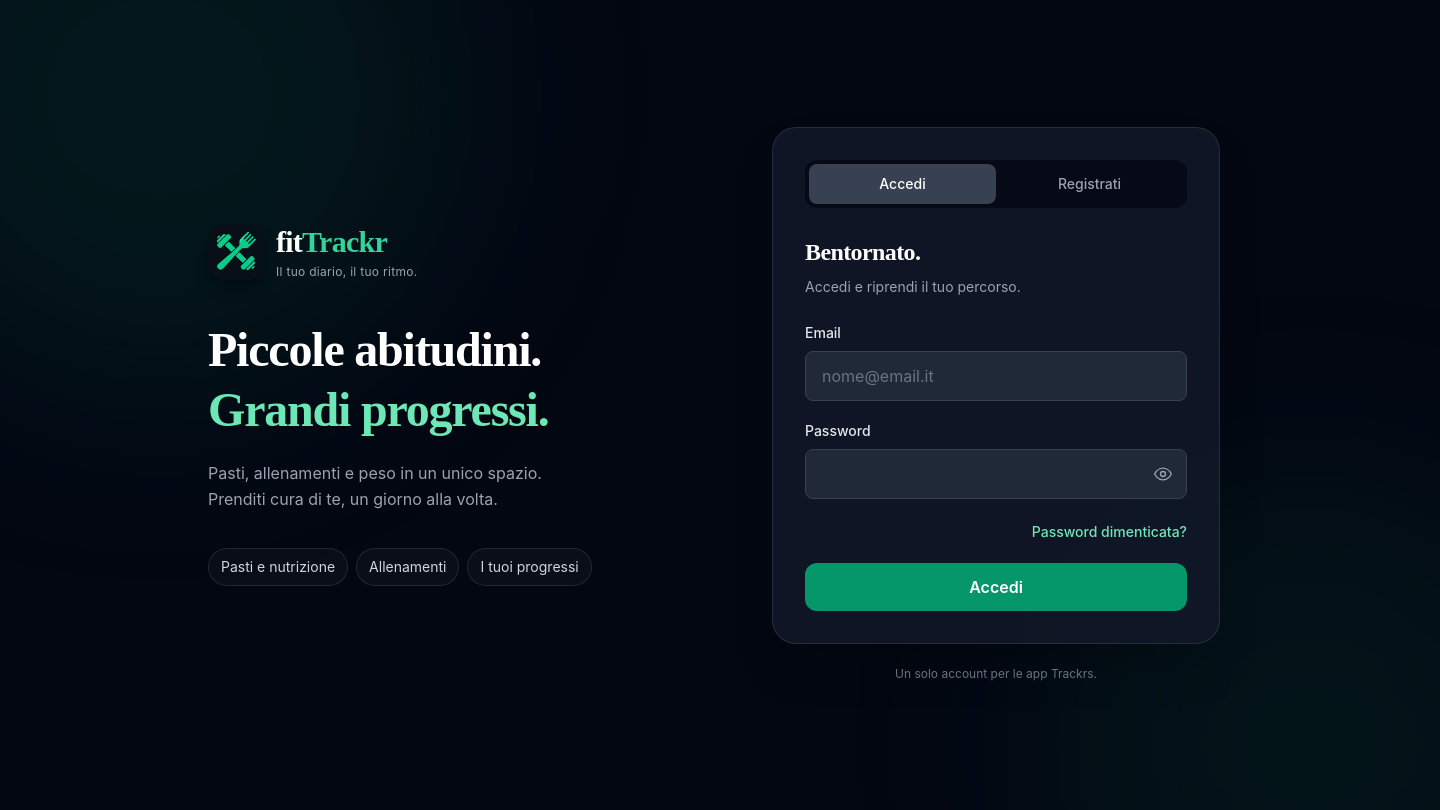
LoginPage › requires matching passwords before sending a signup request
The width and height of the screenshot is (1440, 810).
Click the button "Registrati". click: (1090, 184)
box: [996,164,1183,204]
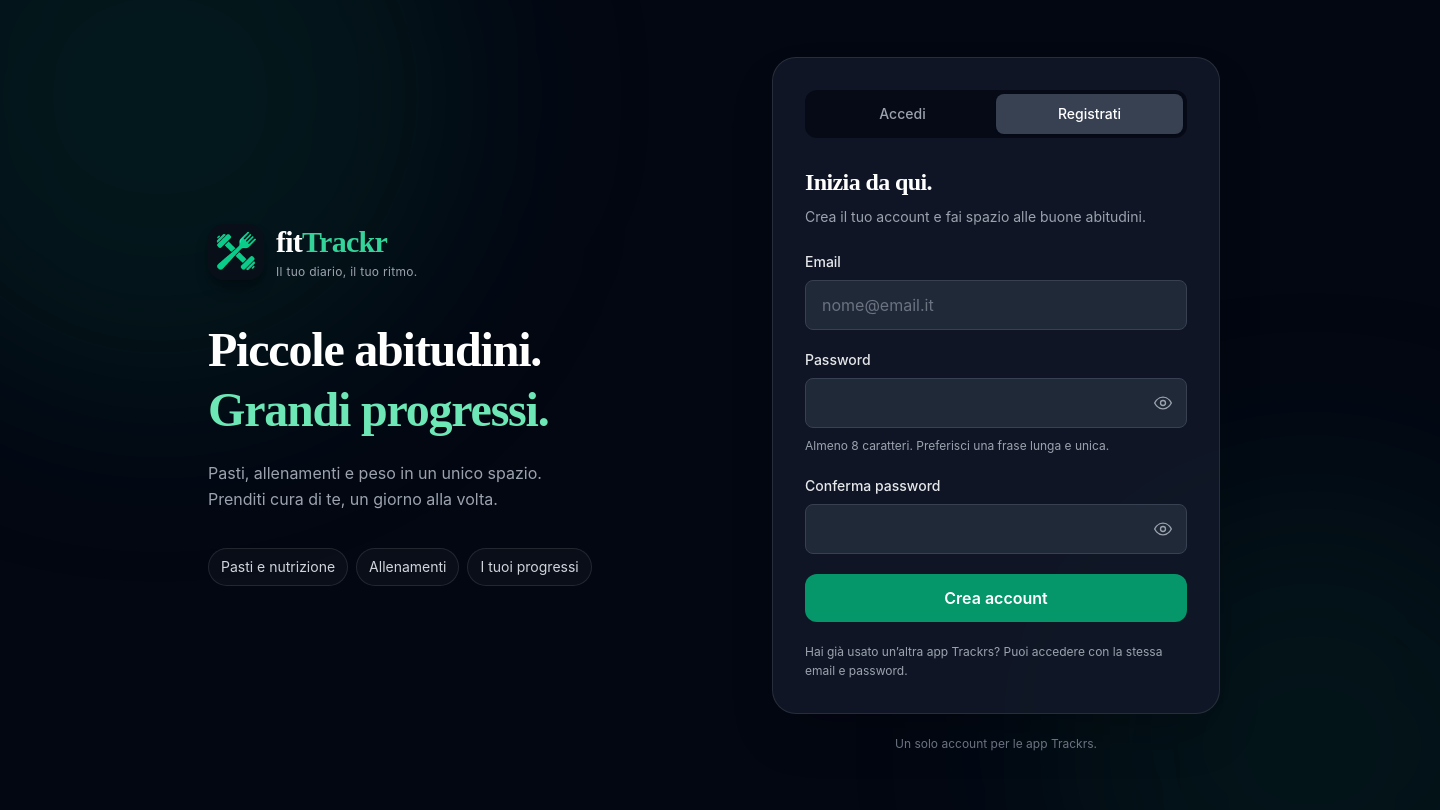
Type " account@example.it " into the field labelled "Email". click: (996, 305)
box: [805,280,1187,330]
Type "long-passphrase" into the password field labelled "Password". click: (996, 403)
box: [805,378,1187,428]
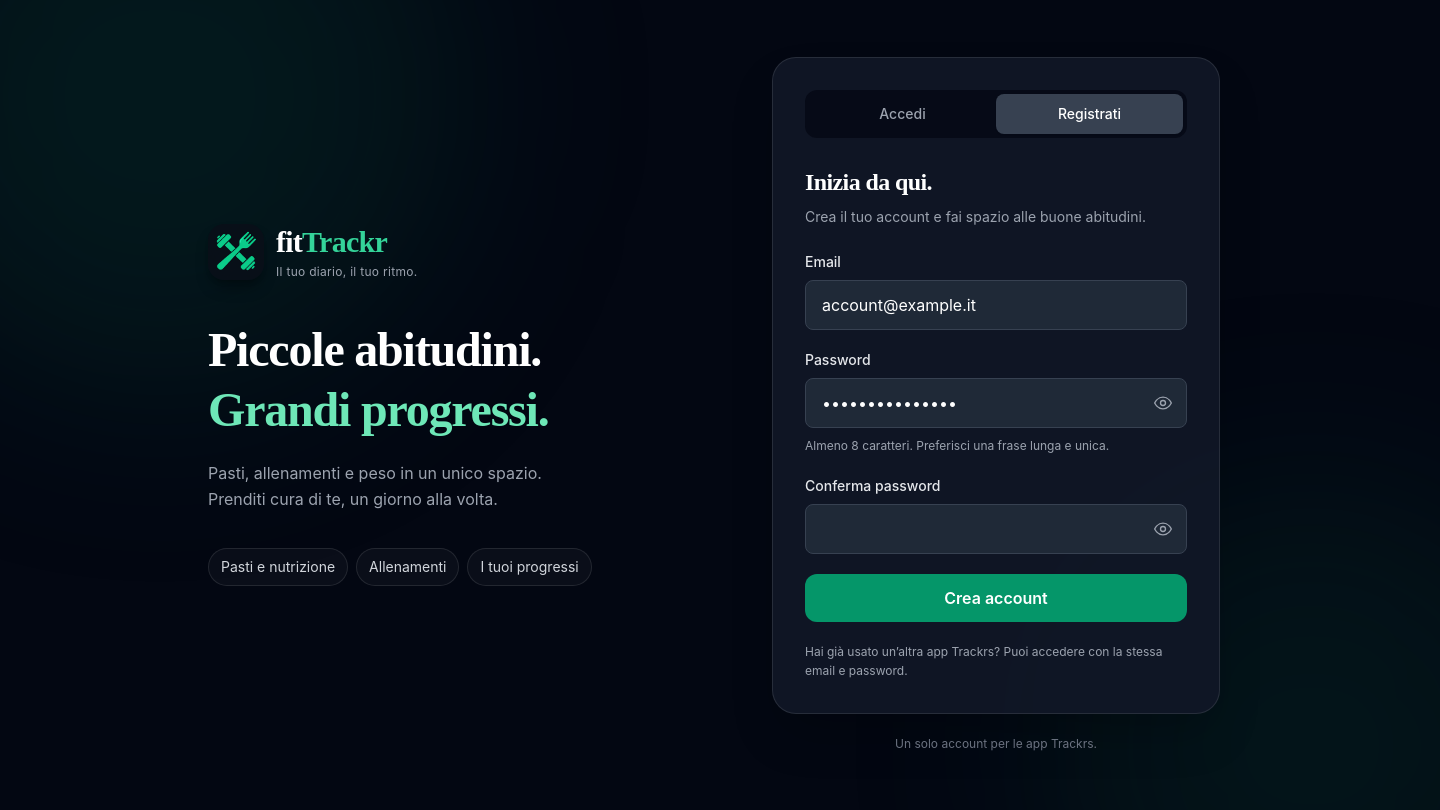
Type "different-password" into the password field labelled "Conferma password". click: (996, 529)
box: [805,504,1187,554]
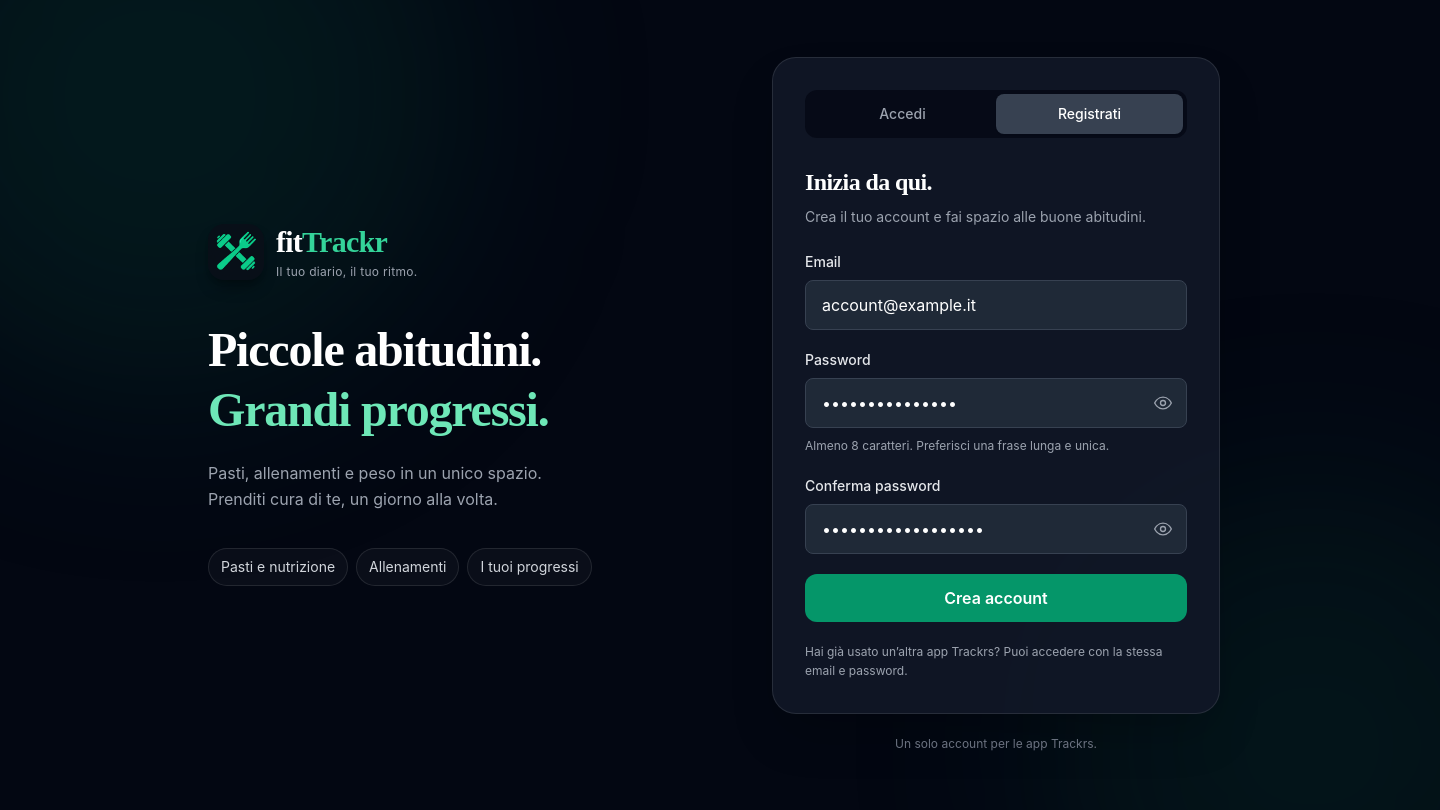
Submit the form labelled "Email", box [805,252,1187,622]
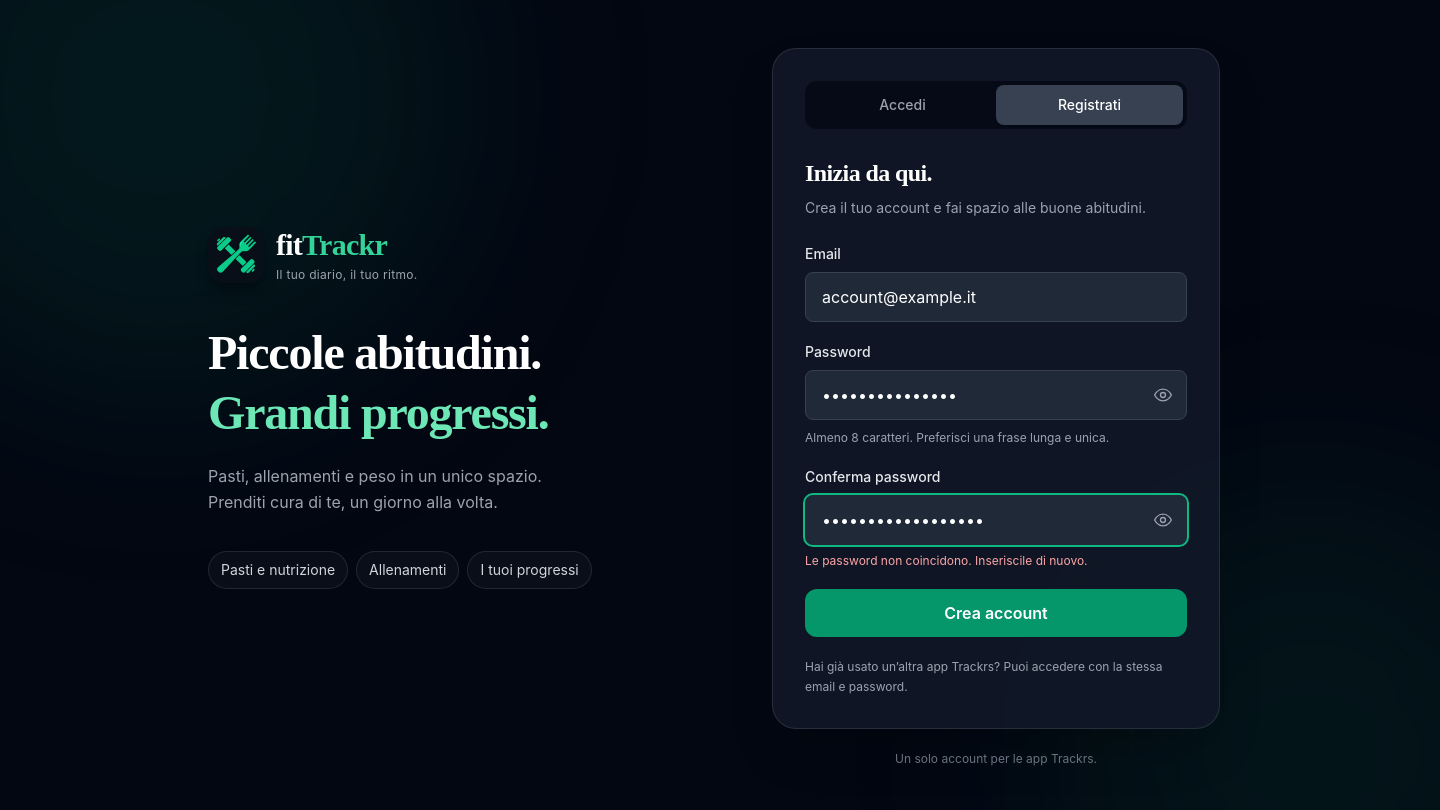
expect the text "Le password non coincidono. Inseriscile di nuovo." is shown: met, box [805,553,1088,568]
Type "long-passphrase" into the password field labelled "Conferma password". click: (996, 520)
box: [805,495,1187,545]
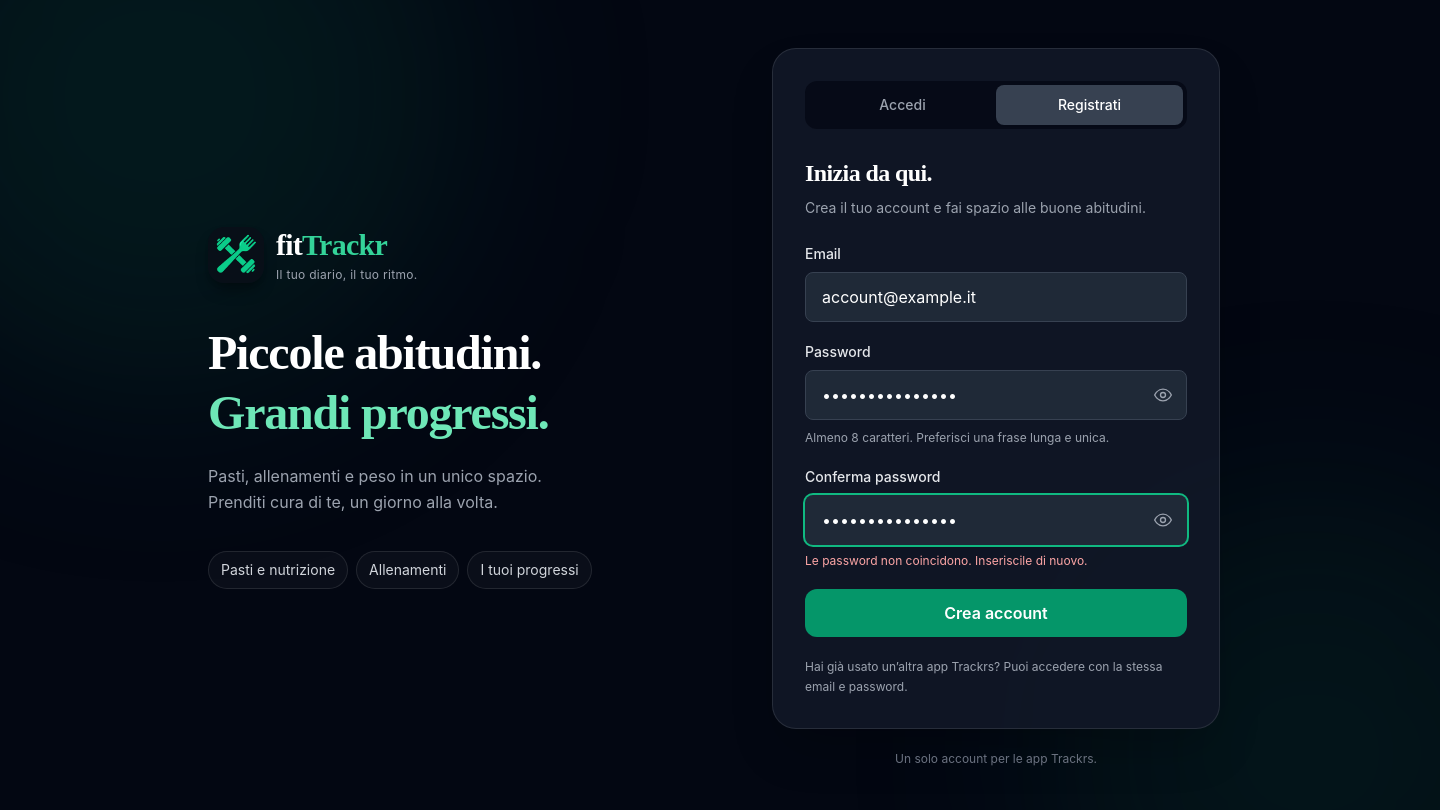
Submit the form labelled "Email", box [805,244,1187,637]
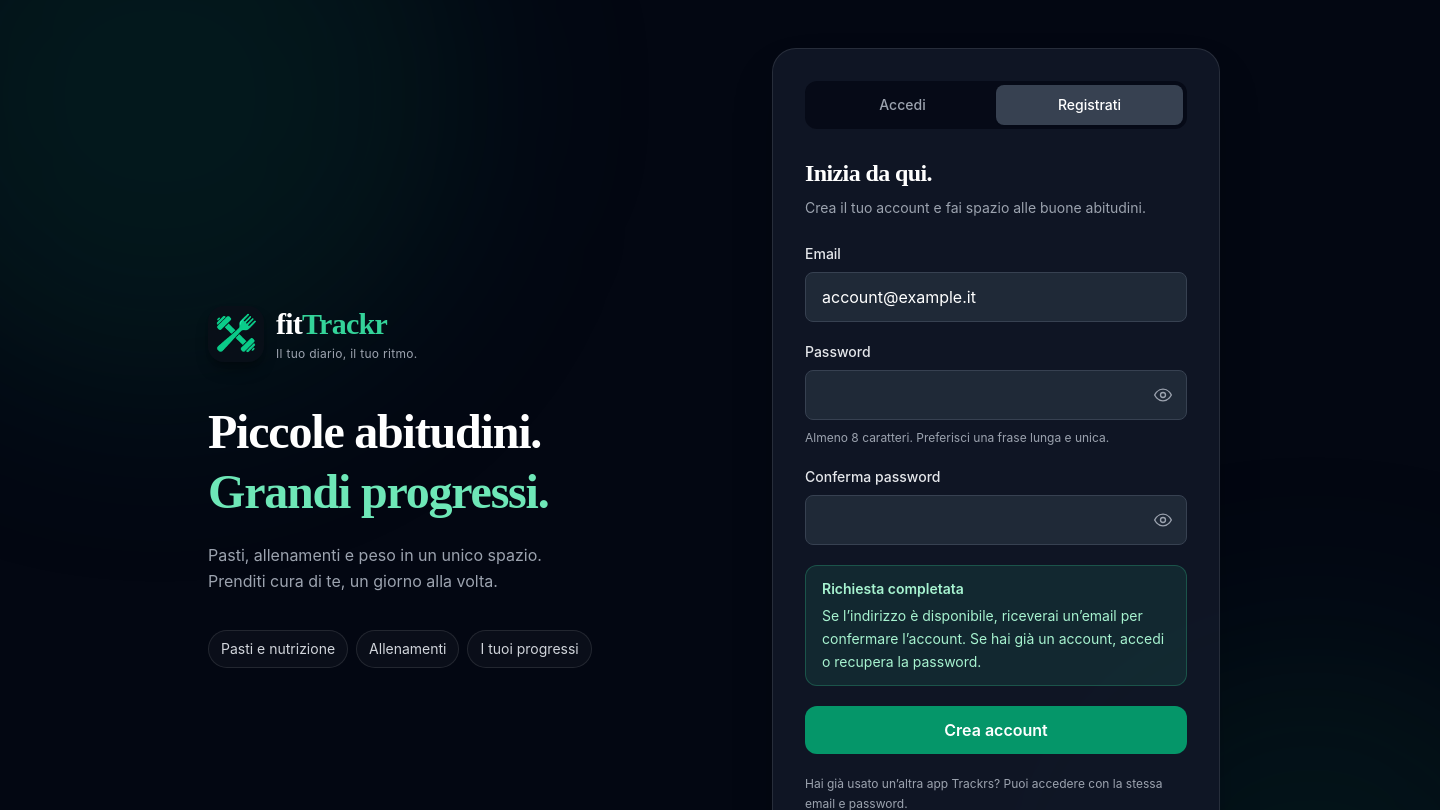
expect the text "Se l’indirizzo è disponibile, riceverai un’email per confermare l’account. Se hai già un account, accedi o recupera la p" is shown: met, box [822,607,1164,670]
expect the password field labelled "Password" is empty: met, box [805,370,1187,420]
